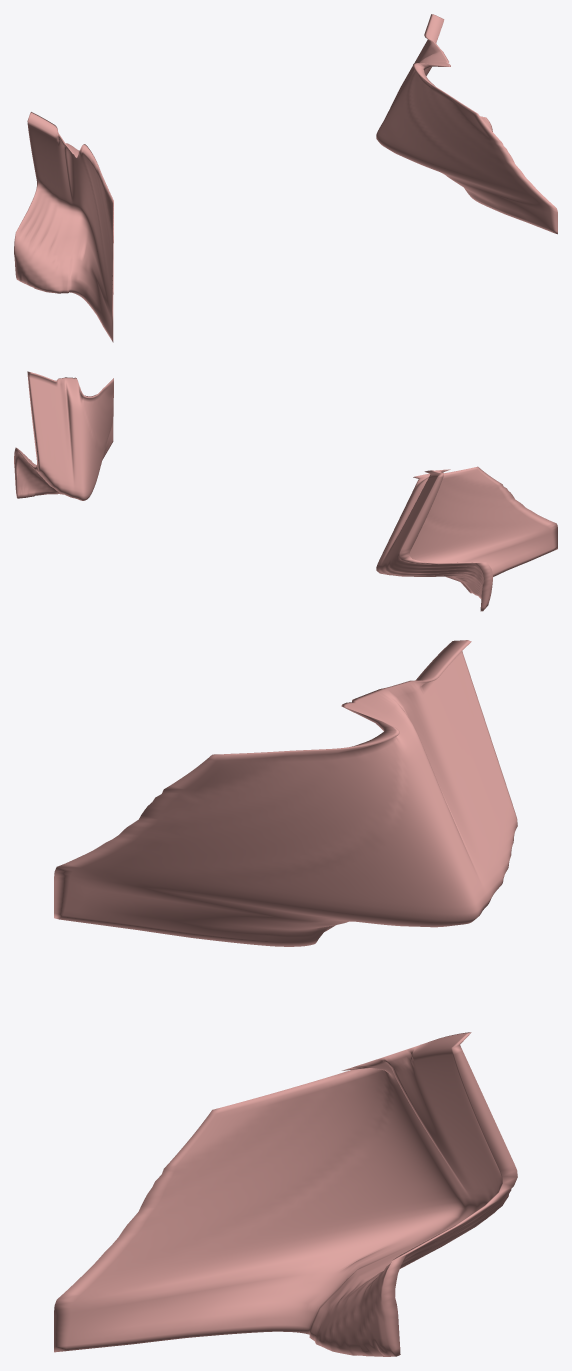
Rendered from buccinator.glb.
3 views of the same model, one above another, from view 1: azimuth 30°, elevation 25°; view 2: azimuth 150°, elevation 25°; view 3: azimuth 270°, elevation 25° (orthographic). The views are drawn at different scales.
Parts seen in each view (by area): view 1: buccinator_R, buccinator_L; view 2: buccinator_R, buccinator_L; view 3: buccinator_L, buccinator_R.
Part boxes in pixels (<box>): buccinator_R: <box>14,112,113,342</box>; buccinator_L: <box>376,14,557,234</box>; buccinator_R: <box>376,466,557,611</box>; buccinator_L: <box>14,371,113,500</box>; buccinator_L: <box>54,1032,517,1356</box>; buccinator_R: <box>54,640,517,946</box>.
Bounding box in the file's own units: 0.079 × 0.0238 × 0.0331.
